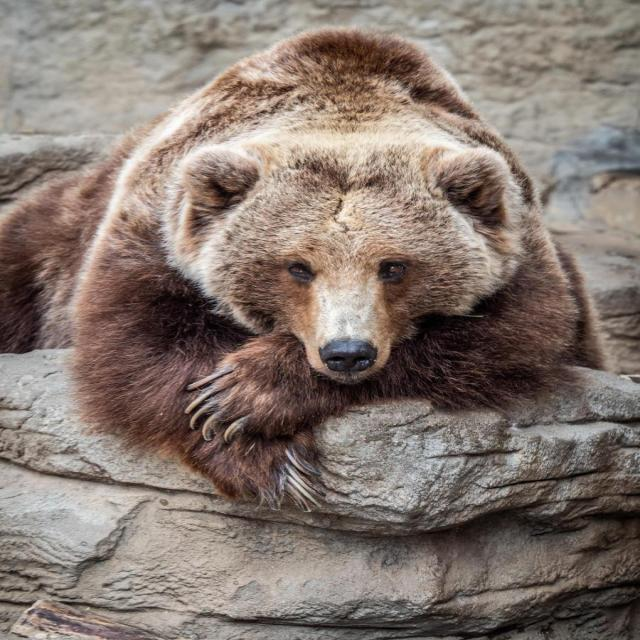Bear: (0, 27, 607, 508)
